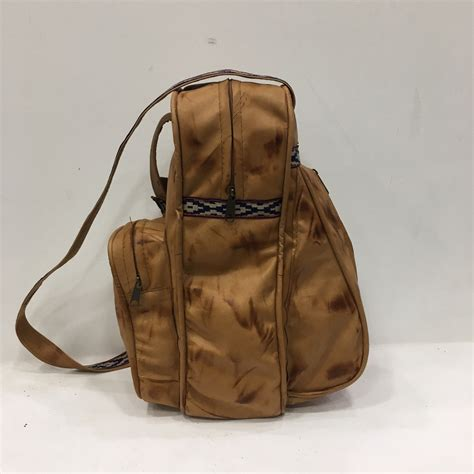cuero: (14, 69, 374, 419)
